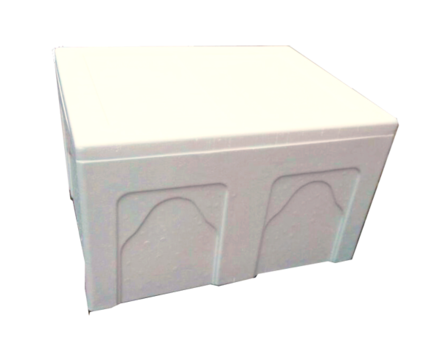Foam Box: (47, 36, 401, 315)
